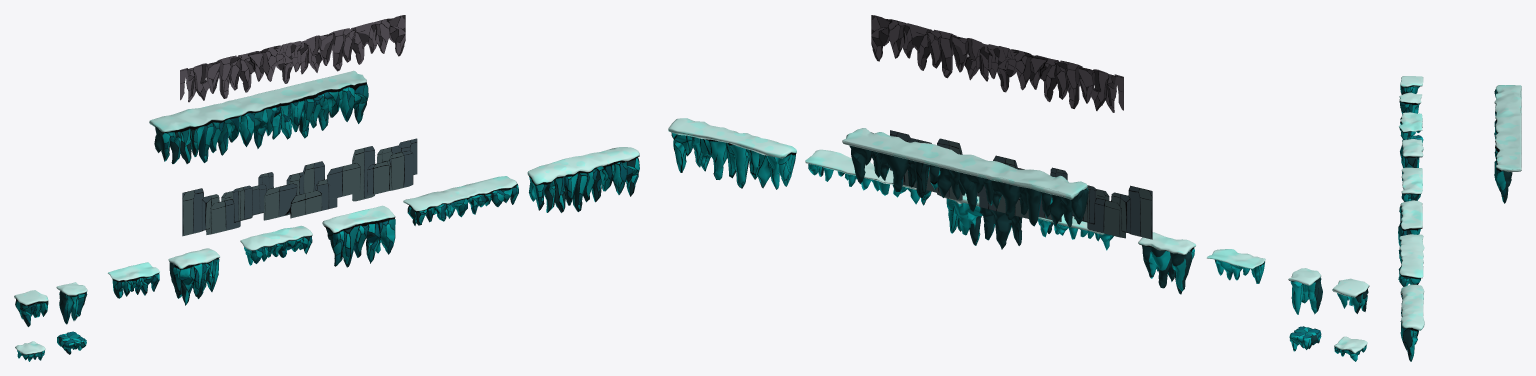
Rendered from Nilfheim_Modules.fbx.
3 renders of one model, left to right at view 1: azimuth 30°, elevation 25°; view 2: azimuth 150°, elevation 25°; view 3: azimuth 270°, elevation 25°, orthographic. The views are drawn at different scales.
Visible parts, largest first — view 1: Nilfheim_PostPS_10-1M, Nilfheim_PPIPlane, Nilfheim_PPSPlane, Nilfheim_PV_5-2M, Nilfheim_PV_3-2M, Nilfheim_PV_5-1M, Nilfheim_PV_2-2M, Nilfheim_PV_3-1M, Nilfheim_PV_2-1M, Nilfheim_PV_1-2M, Nilfheim_PV_1-1M; view 2: Nilfheim_PostPS_10-1M, Nilfheim_PPSPlane, Nilfheim_PV_5-2M, Nilfheim_PPIPlane, Nilfheim_PV_2-2M, Nilfheim_PV_3-2M, Nilfheim_PV_5-1M, Nilfheim_PV_2-1M, Nilfheim_PV_1-2M, Nilfheim_PV_3-1M, Nilfheim_PV_1-1M, Nilfheim_PVD_1-1_5M; view 3: Nilfheim_PostPS_10-1M, Nilfheim_PV_5-2M, Nilfheim_PV_5-1M, Nilfheim_PV_3-2M, Nilfheim_PV_3-1M, Nilfheim_PV_2-2M, Nilfheim_PV_2-1M, Nilfheim_PV_1-2M, Nilfheim_PV_1-1M.
Part boxes in pixels (x1,y1,x2,y2): Nilfheim_PostPS_10-1M: (149, 71, 368, 163); Nilfheim_PPIPlane: (182, 138, 417, 236); Nilfheim_PPSPlane: (180, 15, 405, 102); Nilfheim_PV_5-2M: (527, 147, 639, 212); Nilfheim_PV_3-2M: (322, 205, 395, 267); Nilfheim_PV_5-1M: (403, 176, 518, 225); Nilfheim_PV_2-2M: (168, 248, 219, 305); Nilfheim_PV_3-1M: (240, 225, 312, 265); Nilfheim_PV_2-1M: (107, 262, 159, 298); Nilfheim_PV_1-2M: (56, 282, 87, 324); Nilfheim_PV_1-1M: (14, 290, 48, 326); Nilfheim_PostPS_10-1M: (842, 128, 1088, 227); Nilfheim_PPSPlane: (871, 15, 1123, 112); Nilfheim_PV_5-2M: (668, 118, 796, 189); Nilfheim_PPIPlane: (890, 130, 1152, 239); Nilfheim_PV_2-2M: (1138, 232, 1195, 294); Nilfheim_PV_3-2M: (944, 193, 1022, 249); Nilfheim_PV_5-1M: (805, 149, 931, 205); Nilfheim_PV_2-1M: (1207, 249, 1265, 283); Nilfheim_PV_1-2M: (1288, 268, 1322, 314); Nilfheim_PV_3-1M: (1038, 214, 1113, 250); Nilfheim_PV_1-1M: (1332, 278, 1369, 313); Nilfheim_PVD_1-1_5M: (1289, 326, 1321, 351); Nilfheim_PostPS_10-1M: (1494, 85, 1521, 203); Nilfheim_PV_5-2M: (1400, 284, 1424, 361); Nilfheim_PV_5-1M: (1398, 234, 1424, 286); Nilfheim_PV_3-2M: (1398, 200, 1422, 246); Nilfheim_PV_3-1M: (1401, 167, 1422, 201); Nilfheim_PV_2-2M: (1400, 139, 1423, 167); Nilfheim_PV_2-1M: (1399, 112, 1422, 139); Nilfheim_PV_1-2M: (1399, 92, 1421, 114); Nilfheim_PV_1-1M: (1400, 76, 1423, 94).
Size of the model in its own units: 30.17 by 10.79 by 6.27.
